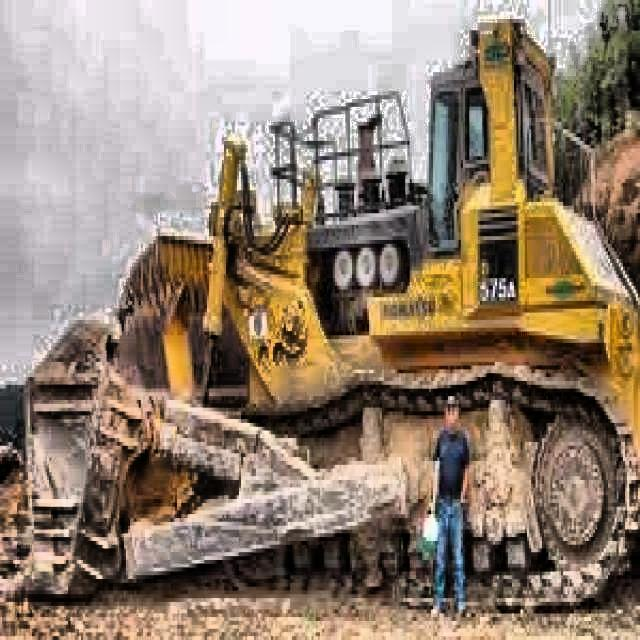bull_dozer/loader/grader: (19, 12, 640, 626)
person: (426, 384, 473, 623)
